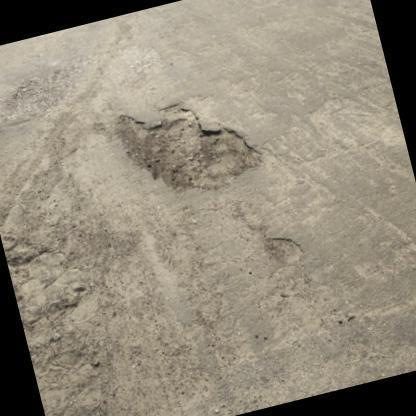pothole: (106, 104, 268, 187), (0, 56, 76, 128), (271, 236, 312, 270)
